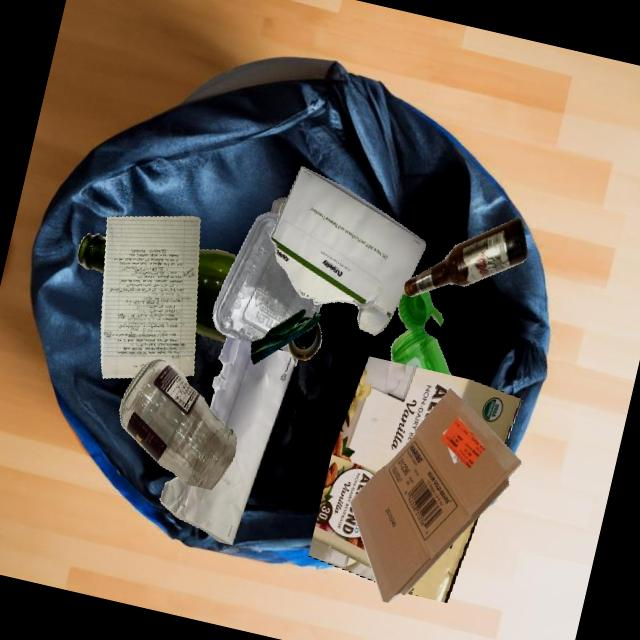biowaste: (250, 309, 320, 364)
cardboard: (308, 356, 522, 581), (349, 388, 520, 602)
glass: (119, 359, 236, 490), (403, 217, 527, 296), (195, 249, 237, 342), (287, 322, 321, 360), (77, 233, 105, 273), (270, 197, 287, 216)
paper: (159, 336, 295, 545), (270, 165, 425, 335), (100, 216, 200, 378)
plastic: (212, 212, 312, 342), (390, 290, 450, 375)
